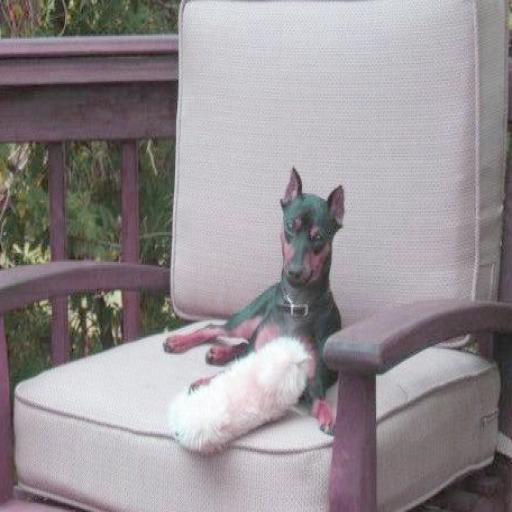dog_face: (276, 171, 346, 286)
